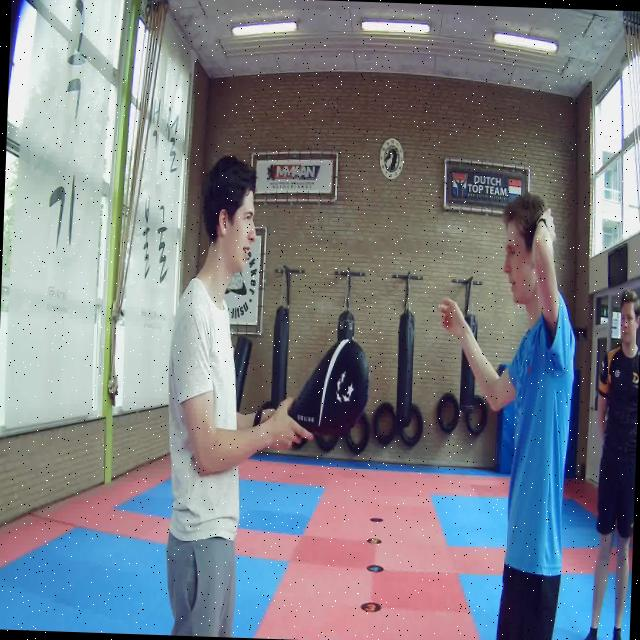paddle: (285, 337, 369, 434)
